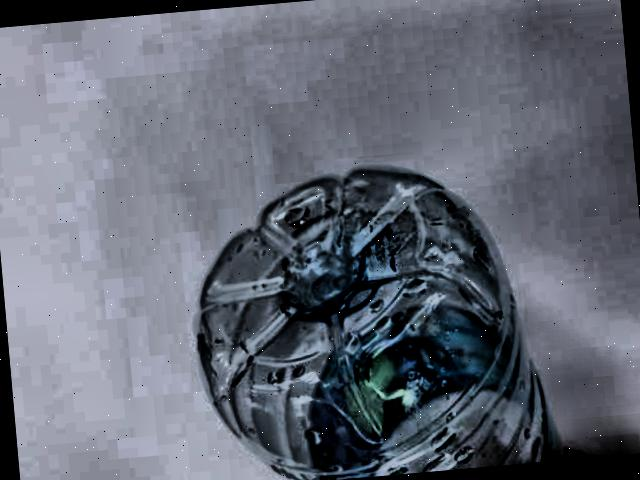Bottles: (152, 123, 618, 480)
